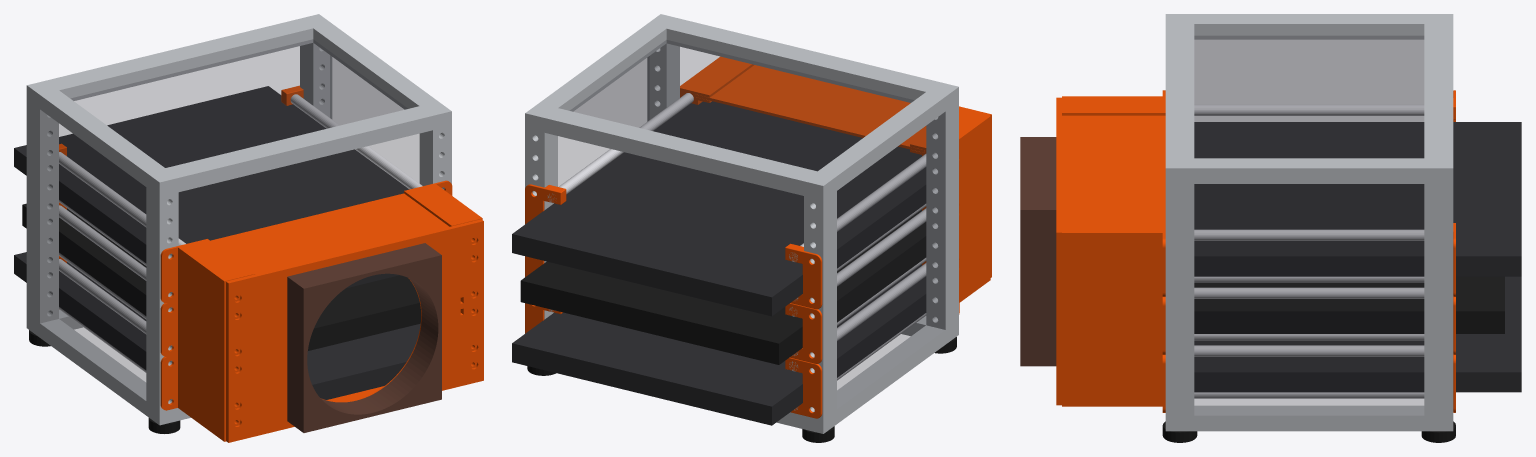
The model's file is shared-duct.glb.
3 views of the same model, side by side, from view 1: azimuth 30°, elevation 25°; view 2: azimuth 150°, elevation 25°; view 3: azimuth 270°, elevation 25° (orthographic). The views are drawn at different scales.
Parts seen in each view (by area): view 1: print_31, macbook_43, acrylic_12, acrylic_14, fan_32, macbook_33, surface_38, frame_0, frame_9, frame_8, frame_1, print_28 (+13 smaller); view 2: macbook_43, acrylic_12, acrylic_14, macbook_33, surface_38, print_31, frame_1, frame_8, frame_9, frame_0, acrylic_13, frame_10 (+17 smaller); view 3: acrylic_13, macbook_43, acrylic_14, acrylic_12, macbook_33, print_31, surface_38, fan_32, frame_2, frame_3, print_27, frame_7 (+14 smaller).
Boxes of the visible parts, <box> form: print_31: <box>210,193,483,442</box>; macbook_43: <box>14,86,409,288</box>; acrylic_12: <box>40,110,145,400</box>; acrylic_14: <box>71,39,407,167</box>; fan_32: <box>287,243,441,432</box>; macbook_33: <box>14,252,420,399</box>; surface_38: <box>22,203,420,350</box>; frame_0: <box>26,80,58,337</box>; frame_9: <box>165,106,432,191</box>; frame_8: <box>46,18,313,100</box>; frame_1: <box>146,168,178,425</box>; print_28: <box>160,239,254,334</box>; macbook_43: <box>512,101,926,316</box>; acrylic_12: <box>837,112,945,408</box>; acrylic_14: <box>570,40,913,170</box>; macbook_33: <box>512,264,926,425</box>; surface_38: <box>520,209,926,364</box>; print_31: <box>695,65,991,277</box>; frame_1: <box>926,82,958,344</box>; frame_8: <box>544,108,817,195</box>; frame_9: <box>666,18,939,102</box>; frame_0: <box>804,171,836,433</box>; acrylic_13: <box>558,57,648,186</box>; frame_10: <box>818,92,945,190</box>; acrylic_13: <box>1194,184,1423,415</box>; macbook_43: <box>1194,122,1521,276</box>; acrylic_14: <box>1194,36,1423,157</box>; acrylic_12: <box>1195,40,1423,121</box>; macbook_33: <box>1194,276,1521,392</box>; print_31: <box>1056,97,1165,405</box>; surface_38: <box>1194,276,1504,333</box>; fan_32: <box>1020,137,1056,366</box>; frame_2: <box>1424,158,1453,431</box>; frame_3: <box>1165,158,1194,431</box>; print_27: <box>1062,216,1165,296</box>; frame_7: <box>1194,405,1424,431</box>.
Bounding box in the file's own units: 258 × 210 × 349.
